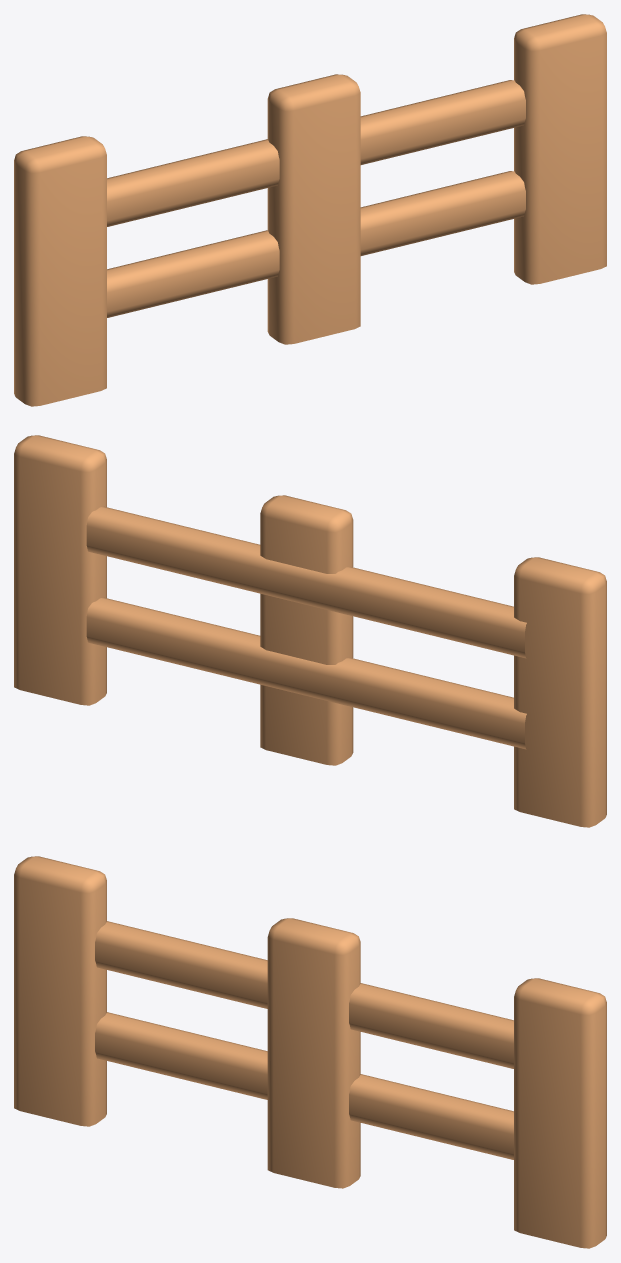
File: Wooden_Fence_06.fbx
3 views of the same model, one above another, from view 1: azimuth 30°, elevation 25°; view 2: azimuth 150°, elevation 25°; view 3: azimuth 330°, elevation 25° (orthographic).
Visible parts, largest first — view 1: Wooden_Fence_06; view 2: Wooden_Fence_06; view 3: Wooden_Fence_06.
Boxes of the visible parts, x1,y1,x2,y2 form: Wooden_Fence_06: (14,14,606,406); Wooden_Fence_06: (14,435,606,827); Wooden_Fence_06: (14,856,606,1248).
Bounding box in the file's own units: 2190 × 878 × 150.
